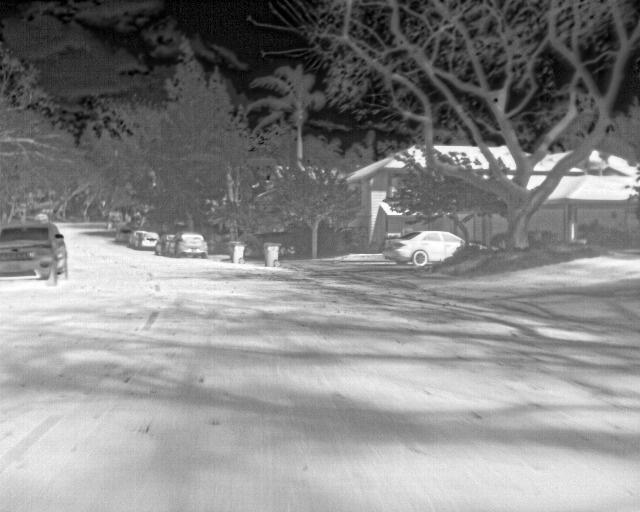car: (0, 218, 69, 287), (384, 227, 462, 266), (174, 230, 209, 257), (153, 234, 180, 255), (137, 232, 159, 248), (125, 228, 144, 244)
